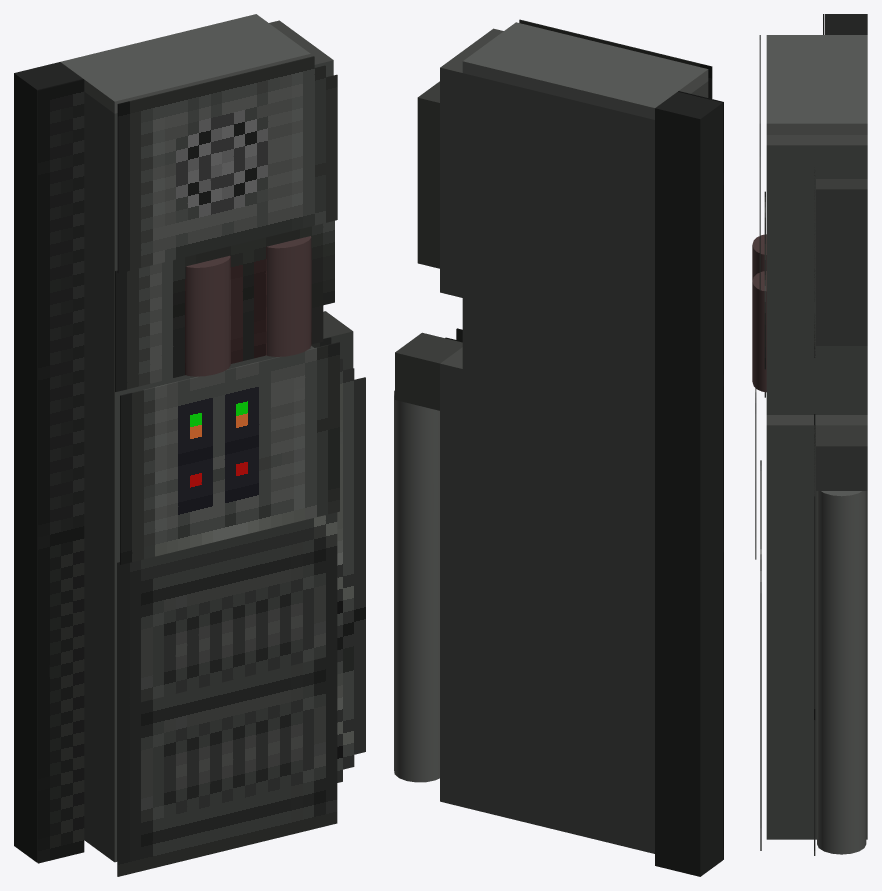
File: CMU3DRMCMachinePropBig13Flipped.glb
3 renders of one model, left to right at view 1: azimuth 30°, elevation 25°; view 2: azimuth 150°, elevation 25°; view 3: azimuth 270°, elevation 25°, orthographic. The views are drawn at different scales.
Visible parts, largest first — view 1: bottom grille, animated paired control bank, upper perforated vent, rear mounting spine artwork, upper lower-case grille, dark rear mounting spine, paired copper cartridge backing, lower cabinet below side notch, cast top shoulder, source side-depth details, copper vertical cartridge (×2), upper cabinet above side notch (+2 smaller); view 2: lower cabinet below side notch, dark rear mounting spine, upper cabinet above side notch, exposed side conduit, narrowed mid-case at source notch, cast top shoulder, short upper side shoulder, small lower side shoulder, upper perforated vent, rear mounting spine artwork; view 3: lower cabinet below side notch, exposed side conduit, upper cabinet above side notch, cast top shoulder, short upper side shoulder, narrowed mid-case at source notch, small lower side shoulder, copper vertical cartridge (×2), source side-depth details, dark rear mounting spine, upper perforated vent, upper lower-case grille (+3 smaller).
Part boxes in pixels (x1,y1,x2,y2): bottom grille: [117, 654, 337, 876]; animated paired control bank: [120, 342, 339, 564]; upper perforated vent: [117, 56, 337, 273]; rear mounting spine artwork: [37, 79, 84, 863]; upper lower-case grille: [117, 512, 337, 707]; dark rear mounting spine: [14, 62, 82, 862]; paired copper cartridge backing: [115, 220, 334, 391]; lower cabinet below side notch: [84, 346, 313, 862]; cast top shoulder: [60, 14, 310, 113]; source side-depth details: [311, 337, 365, 782]; copper vertical cartridge (×2): [186, 236, 311, 376]; upper cabinet above side notch: [84, 20, 333, 342]; lower cabinet below side notch: [440, 347, 654, 853]; dark rear mounting spine: [655, 92, 722, 876]; upper cabinet above side notch: [440, 28, 708, 344]; exposed side conduit: [394, 390, 439, 782]; narrowed mid-case at source notch: [462, 298, 654, 415]; cast top shoulder: [462, 22, 708, 119]; short upper side shoulder: [417, 81, 439, 268]; small lower side shoulder: [395, 332, 462, 410]; upper perforated vent: [519, 19, 712, 98]; rear mounting spine artwork: [678, 91, 723, 859]; lower cabinet below side notch: [766, 415, 867, 839]; exposed side conduit: [817, 491, 866, 854]; upper cabinet above side notch: [766, 135, 867, 357]; cast top shoulder: [766, 35, 867, 134]; short upper side shoulder: [816, 179, 867, 345]; narrowed mid-case at source notch: [766, 358, 867, 414]; small lower side shoulder: [816, 425, 867, 490]; copper vertical cartridge (×2): [752, 234, 766, 392]; source side-depth details: [814, 172, 815, 855]; dark rear mounting spine: [824, 14, 867, 34]; upper perforated vent: [759, 35, 760, 290]; upper lower-case grille: [760, 460, 761, 693].
Size of what is drawn, in the model's own units: 0.875 by 2 by 0.291.
Materials: 12 (7 with a texture image).
